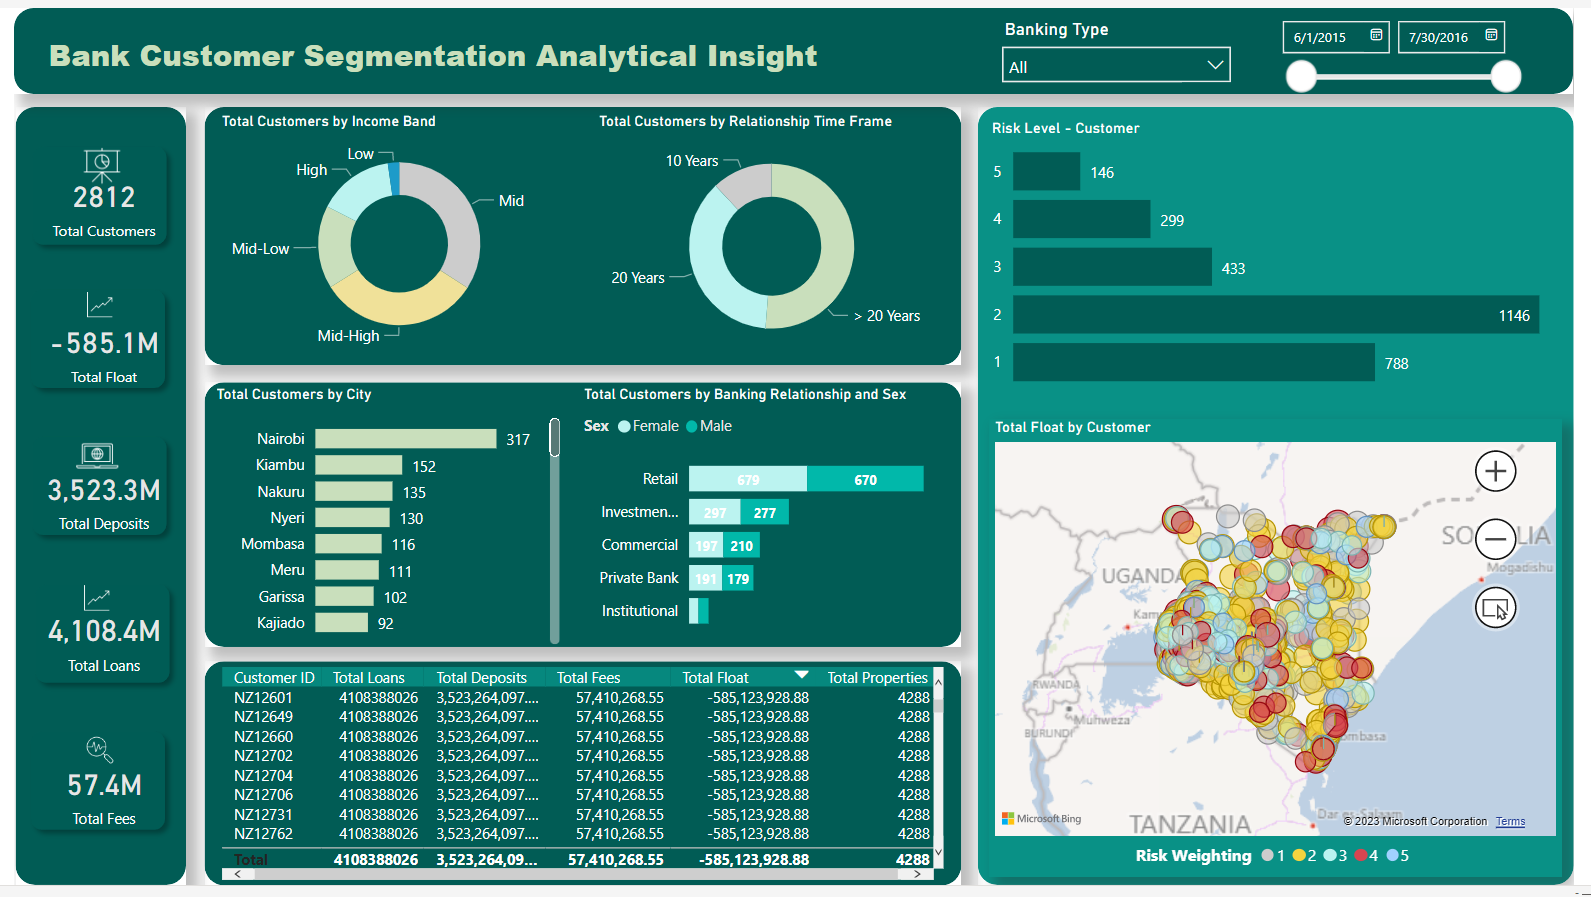

Layout of this report page (visuals, bound fields, positions):
{"tool":"powerbi","page":{"name":"Page 1","canvas":[1280,720],"ordinal":0},"visuals":[{"type":"shape","box":[156.2,81.2,621.2,212.5],"z":0},{"type":"shape","box":[1.2,81.2,140,638.8],"z":1000},{"type":"shape","box":[6.2,104.8,128.5,98.6],"z":2000},{"type":"shape","box":[5,222.1,128.5,98.6],"z":3000},{"type":"shape","box":[6.2,343.2,128.5,98.6],"z":4000},{"type":"shape","box":[8.7,464.2,128.5,98.6],"z":5000},{"type":"shape","box":[5,585.2,128.5,98.6],"z":6000},{"type":"shape","box":[0,0,1280,71.1],"z":7000},{"type":"shape","box":[156.2,536.2,621.2,183.8],"z":8000},{"type":"shape","box":[156.2,307.5,621.2,217.5],"z":9000},{"type":"shape","box":[791.2,81.2,488.8,638.8],"z":10000},{"type":"textbox","box":[23.2,15.9,673.5,45.2],"z":11000},{"type":"card","fields":{"Values":["Key Metrics.Total Clients"]},"box":[9,123,128.8,77.5],"z":12000},{"type":"card","fields":{"Values":["Key Metrics.Total Float"]},"box":[9,243.3,128.8,77.5],"z":13000},{"type":"card","fields":{"Values":["Key Metrics.Total Deposits"]},"box":[9,363.6,129,78],"z":14000},{"type":"card","fields":{"Values":["Key Metrics.Total Loans"]},"box":[8.7,484.2,129.8,68.6],"z":15000},{"type":"card","fields":{"Values":["Key Metrics.Total Fees"]},"box":[9,605.2,129,78],"z":16000},{"type":"donutChart","fields":{"Y":["Key Metrics.Total Clients"],"Category":["Banking Client Data.Income Band"]},"box":[165.4,86.3,301.5,200.5],"z":17000},{"type":"donutChart","fields":{"Y":["Key Metrics.Total Clients"],"Category":["Banking Client Data.Relationship Time Frame"]},"box":[475.6,86.3,292.7,204.9],"z":18000},{"type":"barChart","fields":{"Category":["Location Data.City"],"Y":["Key Metrics.Total Clients"]},"box":[161.4,310.5,292.2,217.6],"z":19000},{"type":"barChart","fields":{"Y":["Key Metrics.Total Clients"],"Category":["Banking Client Data.Banking Relationship"],"Series":["Banking Client Data.Sex"]},"box":[463.3,310.5,310.5,211.5],"z":20000},{"type":"barChart","title":"Risk Level - Customer","fields":{"Category":["Banking Client Data.Risk Weighting"],"Y":["Key Metrics.Total Clients"]},"box":[798.2,91.7,479.2,227.4],"z":21000},{"type":"slicer","fields":{"Values":["Banking Client Data.Banking Relationship"]},"box":[800.7,3.7,209,57.5],"z":22000},{"type":"table","fields":{"Values":["Bank Customers.Customer ID","Key Metrics.Total Loans","Key Metrics.Total Deposits","Key Metrics.Total Fees","Key Metrics.Total Float","Key Metrics.Total Properties"]},"box":[165.4,535.6,602.9,184.4],"z":23000},{"type":"slicer","fields":{"Values":["Banking Client Data.Last Contact"]},"box":[1028,0,217.6,80.7],"z":24000},{"type":"image","box":[44.9,104.8,56.2,48.7],"z":25000},{"type":"image","box":[43.7,223.4,53.7,39.9],"z":26000},{"type":"image","box":[43.7,344.4,48.7,46.2],"z":27000},{"type":"image","box":[39.9,590.2,61.1,37.4],"z":28000},{"type":"image","box":[41.2,464.2,53.7,39.9],"z":29000},{"type":"map","title":"Total Float by Customer","fields":{"Series":["Banking Client Data.Risk Weighting"],"Size":["Key Metrics.Total Float"],"Y":["Location Data.Latitude"],"X":["Location Data.Longitude"]},"box":[800.7,337.4,470.6,376.5],"z":30000}]}

Visuals, with their boxes in screenshot pixels (x1, y1, x2, y2), scaled from the page's 1280x720 canvas onto the 1591x897 screenshot:
shape: 194 101 966 366
shape: 1 101 176 896
shape: 8 131 167 253
shape: 6 277 166 400
shape: 8 428 167 550
shape: 11 578 171 701
shape: 6 729 166 852
shape: 0 0 1590 89
shape: 194 668 966 896
shape: 194 383 966 654
shape: 983 101 1590 896
textbox: 29 20 866 76
card - Key Metrics.Total Clients: 11 153 171 250
card - Key Metrics.Total Float: 11 303 171 400
card - Key Metrics.Total Deposits: 11 453 172 550
card - Key Metrics.Total Loans: 11 603 172 689
card - Key Metrics.Total Fees: 11 754 172 851
donutChart - Key Metrics.Total Clients x Banking Client Data.Income Band: 206 108 580 357
donutChart - Key Metrics.Total Clients x Banking Client Data.Relationship Time Frame: 591 108 955 363
barChart - Location Data.City x Key Metrics.Total Clients: 201 387 564 658
barChart - Key Metrics.Total Clients x Banking Client Data.Banking Relationship: 576 387 962 650
"Risk Level - Customer" barChart: 992 114 1588 398
slicer - Banking Client Data.Banking Relationship: 995 5 1255 76
table - Bank Customers.Customer ID x Key Metrics.Total Loans: 206 667 955 896
slicer - Banking Client Data.Last Contact: 1278 0 1548 101
image: 56 131 126 191
image: 54 278 121 328
image: 54 429 115 487
image: 50 735 126 782
image: 51 578 118 628
"Total Float by Customer" map: 995 420 1580 889
